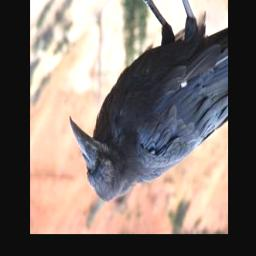Crow: (68, 0, 227, 208)
